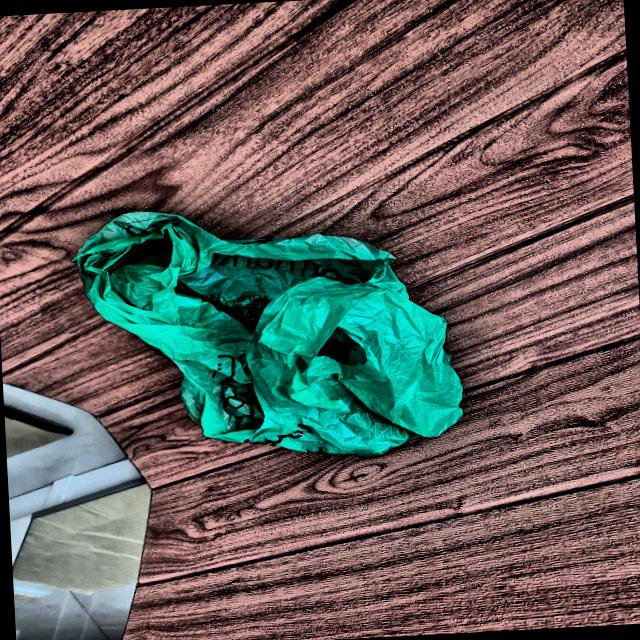plastic bag: (62, 192, 468, 478)
